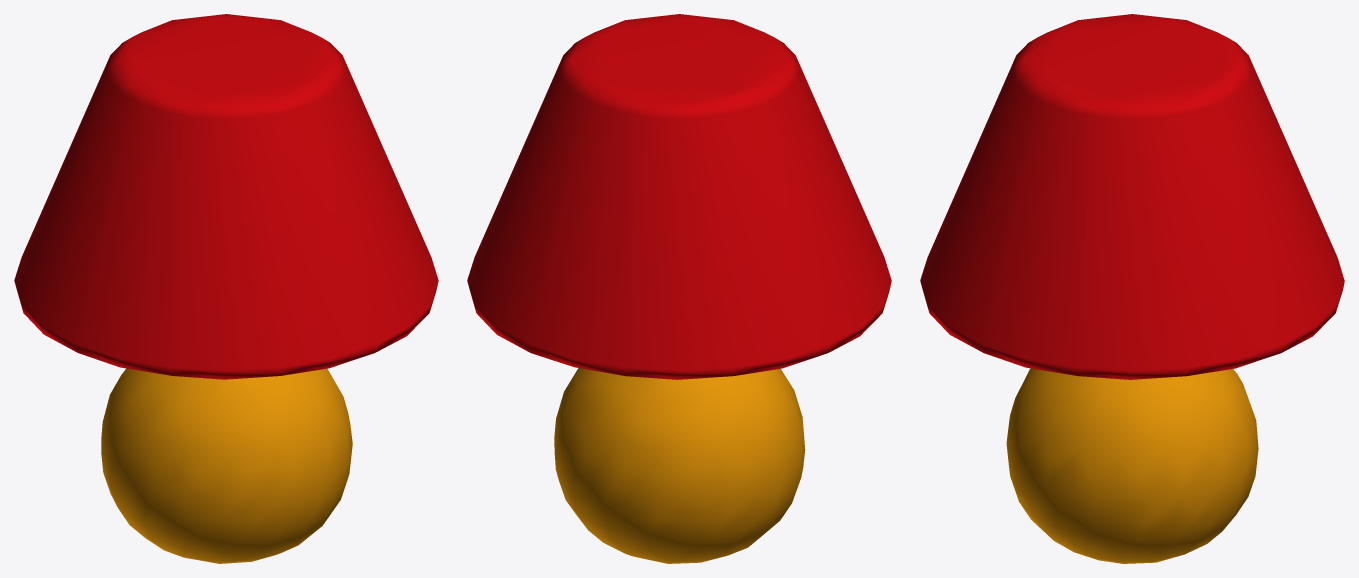
Rendered from lamp_LOD2.fbx.
3 renders of one model, left to right at view 1: azimuth 30°, elevation 25°; view 2: azimuth 150°, elevation 25°; view 3: azimuth 270°, elevation 25°, orthographic.
Parts seen in each view (by area): view 1: lamp; view 2: lamp; view 3: lamp.
Boxes of the visible parts, left/top/right/bottom form: lamp: left=14, top=14, right=438, bottom=563; lamp: left=467, top=14, right=891, bottom=563; lamp: left=920, top=14, right=1344, bottom=563.
Size of the model in its own units: 111 by 140 by 111.
